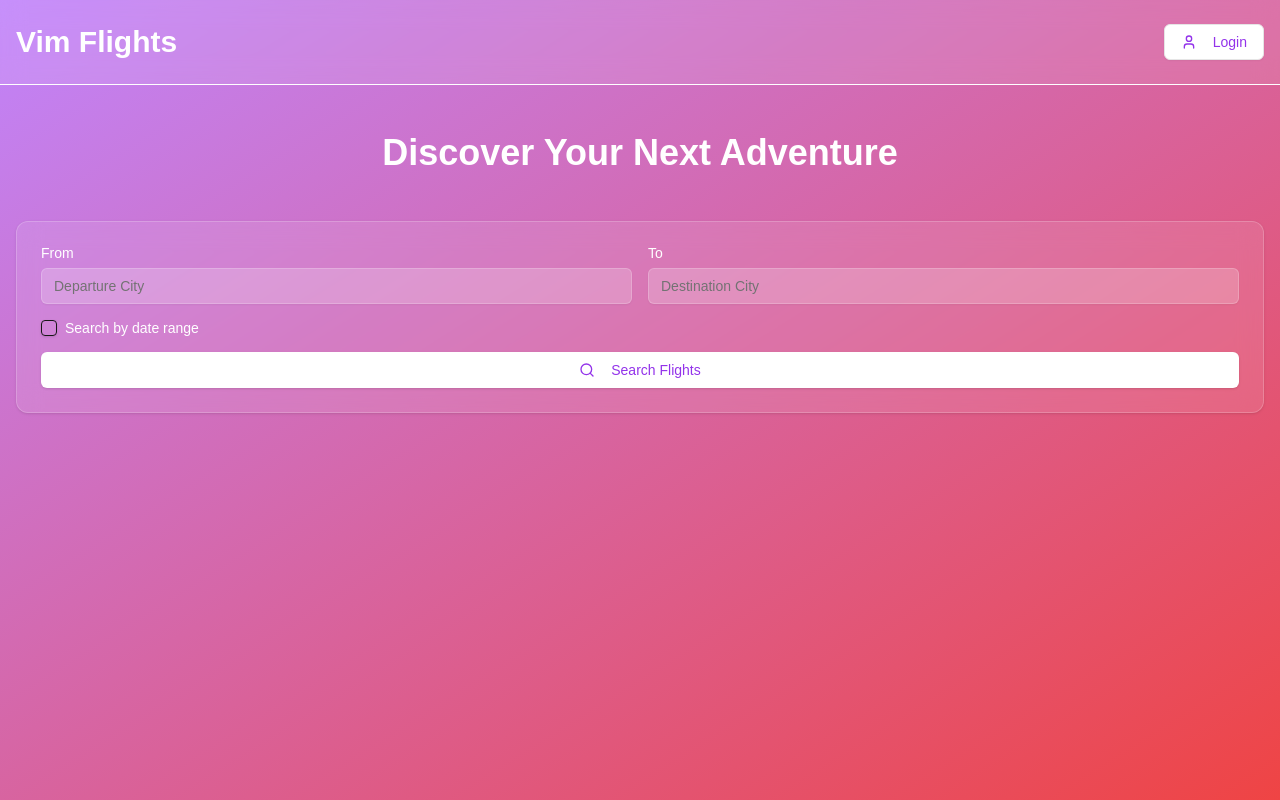
Test: Home component › displays flight results after search
// Simulate search to trigger flight results
Click the button "Search Flights" at (640, 370), box [41,352,1239,388]
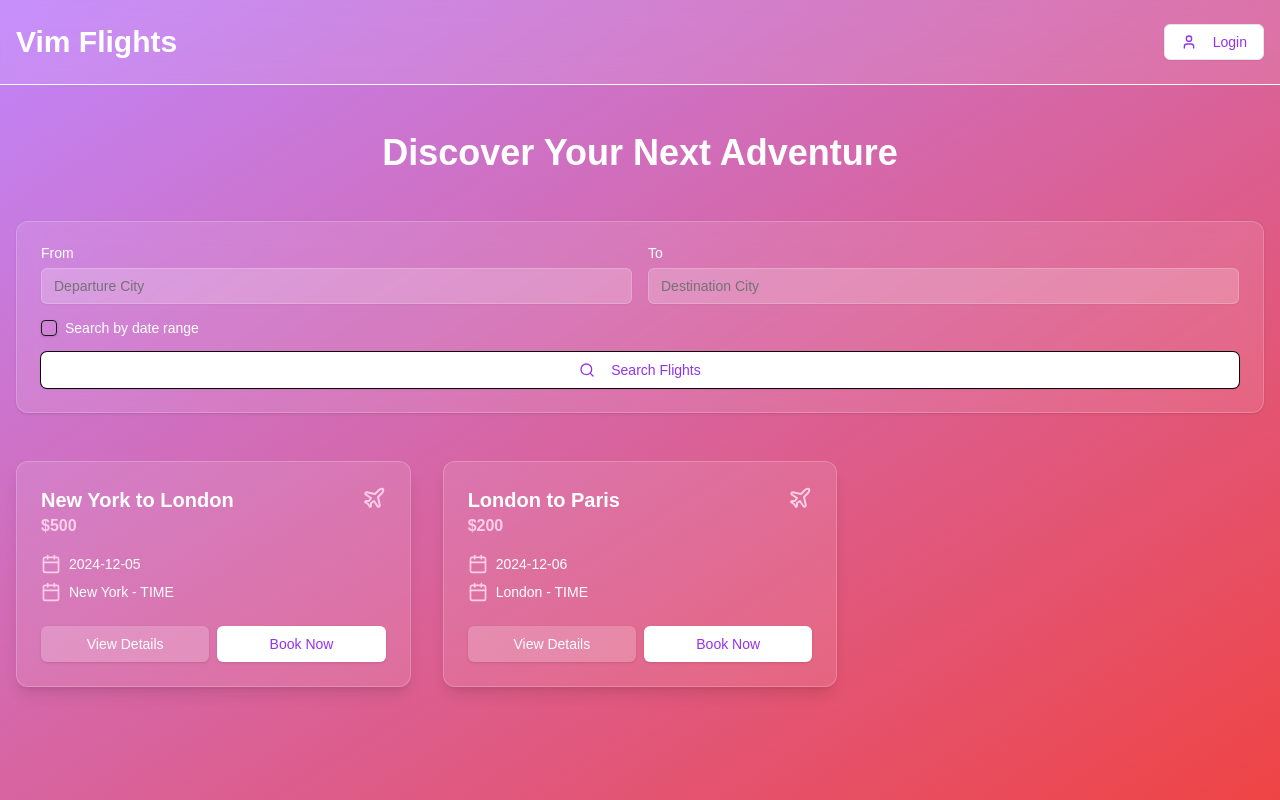
Check: the heading "New York to London" is shown, box [41,486,234,514]
Check: the heading "London to Paris" is shown, box [468,486,620,514]
